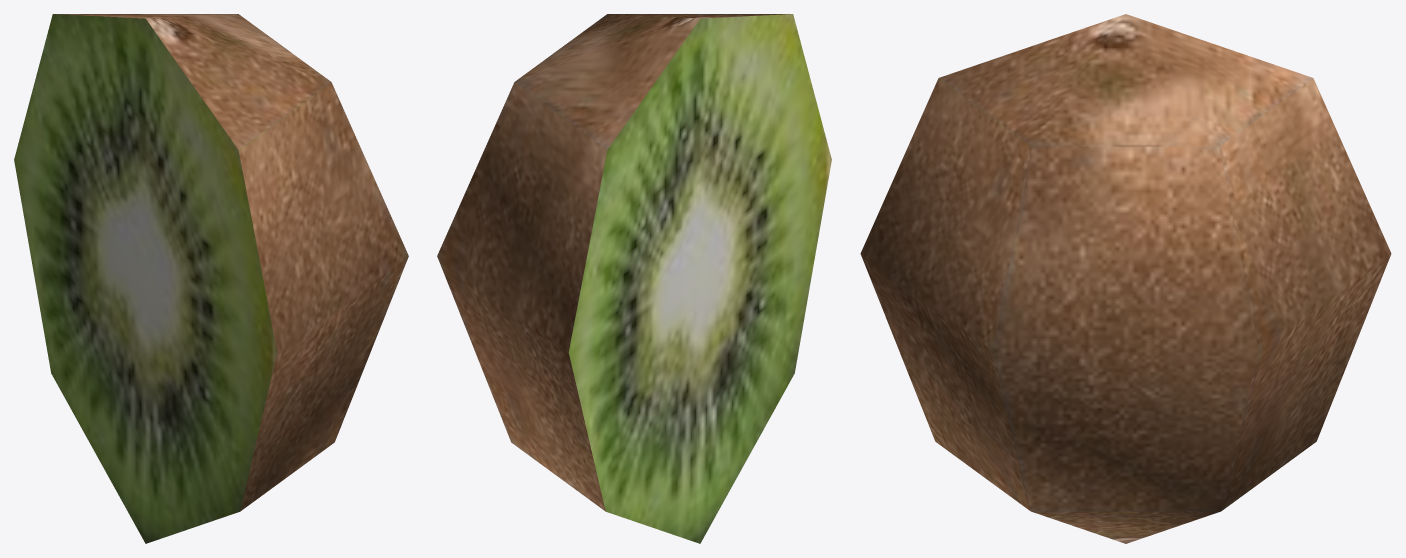
File: Kiwi_01.glb
3 renders of one model, left to right at view 1: azimuth 30°, elevation 25°; view 2: azimuth 150°, elevation 25°; view 3: azimuth 270°, elevation 25°, orthographic.
Visible parts, largest first — view 1: Kiwi_01; view 2: Kiwi_01; view 3: Kiwi_01.
Boxes of the visible parts, box(x1,y1,x2,y2) form: Kiwi_01: box(14, 14, 408, 543); Kiwi_01: box(437, 14, 831, 543); Kiwi_01: box(860, 14, 1391, 543).
Bounding box in the file's own units: 0.0496 × 0.1261 × 0.1145.
1 material, 1 textured.
